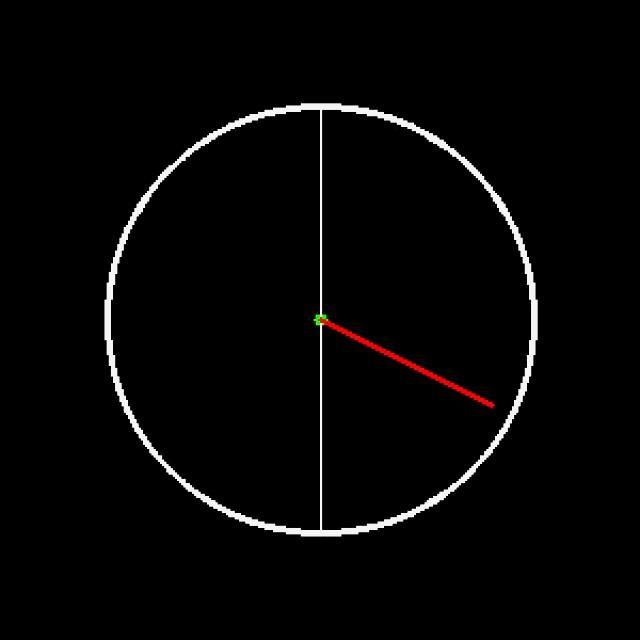Needle_Tip: (472, 392, 519, 433)
Needle_base: (298, 283, 360, 356)
